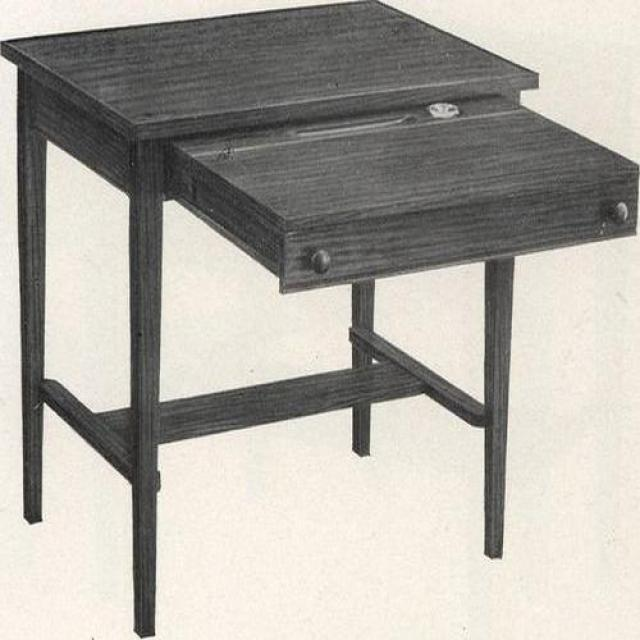table: (0, 0, 640, 640)
